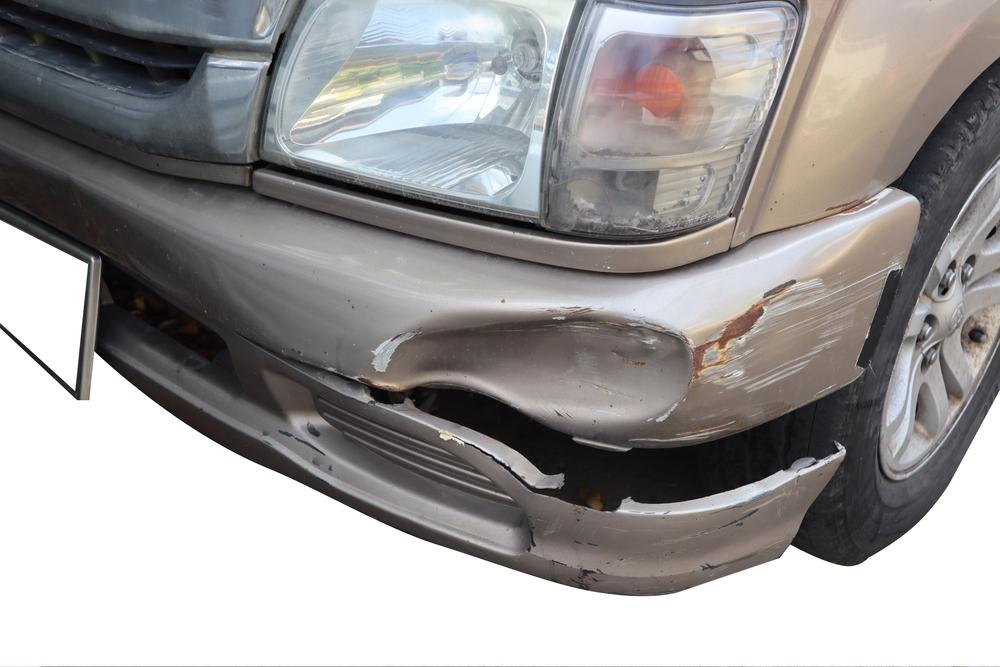crack: (448, 433, 560, 501)
dent: (376, 308, 693, 423)
scratch: (688, 258, 904, 396), (557, 499, 798, 590), (634, 415, 743, 444)
